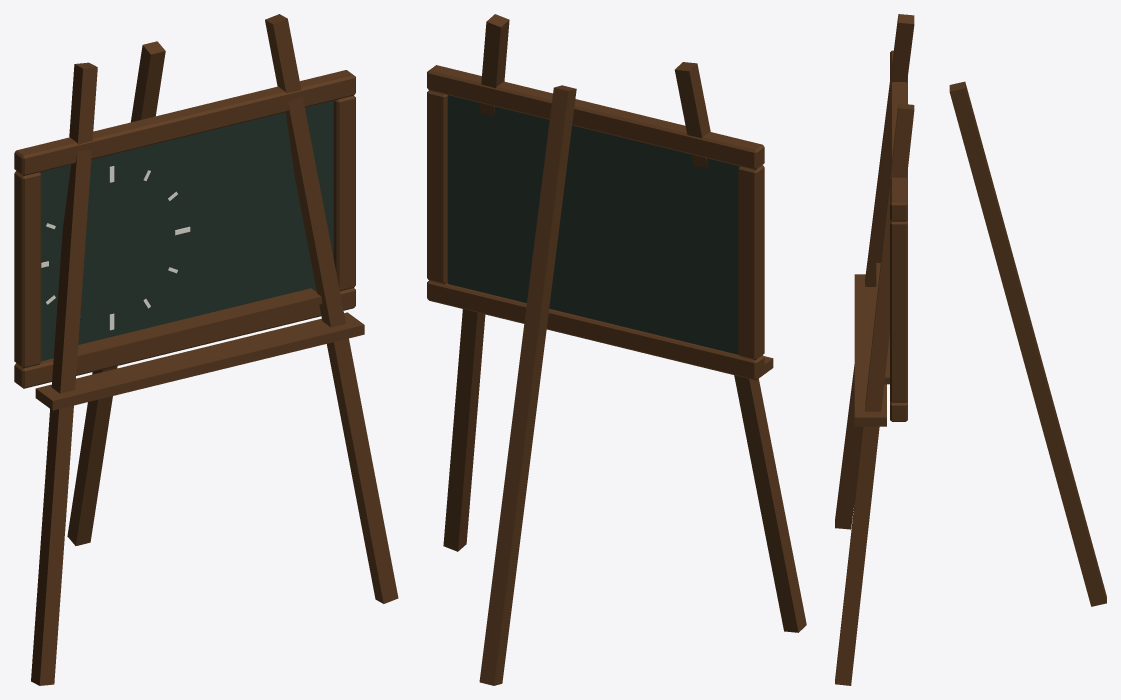
Rendered from Prop_YTM_SetListChalkboard_LOD1.glb.
The picture shows the model from 3 angles, left to right: view 1: azimuth 30°, elevation 25°; view 2: azimuth 150°, elevation 25°; view 3: azimuth 270°, elevation 25°; orthographic projection. The views are drawn at different scales.
Visible parts, largest first — view 1: Prop_YTM_SetListChalkboard; view 2: Prop_YTM_SetListChalkboard; view 3: Prop_YTM_SetListChalkboard.
Boxes of the visible parts, <box> form: Prop_YTM_SetListChalkboard: <box>14,14,398,685</box>; Prop_YTM_SetListChalkboard: <box>427,14,806,685</box>; Prop_YTM_SetListChalkboard: <box>835,14,1106,685</box>.
Bounding box in the file's own units: 0.9678 × 1.49 × 0.6731.
